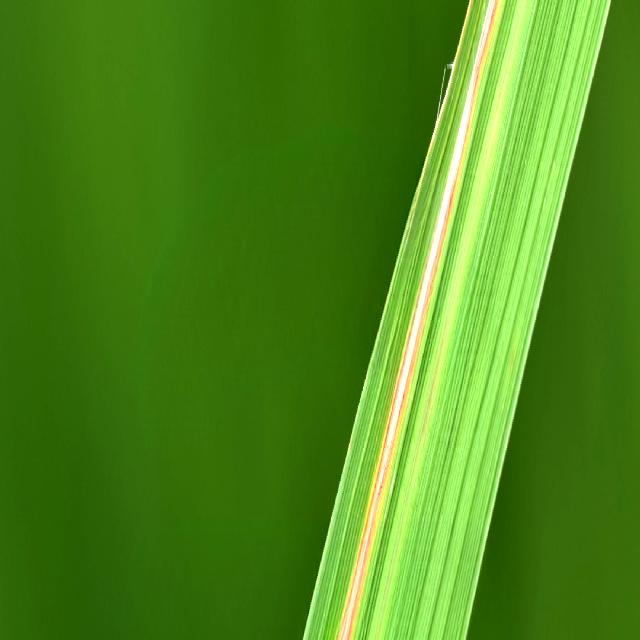BLB: (334, 0, 500, 640), (419, 0, 472, 192)
